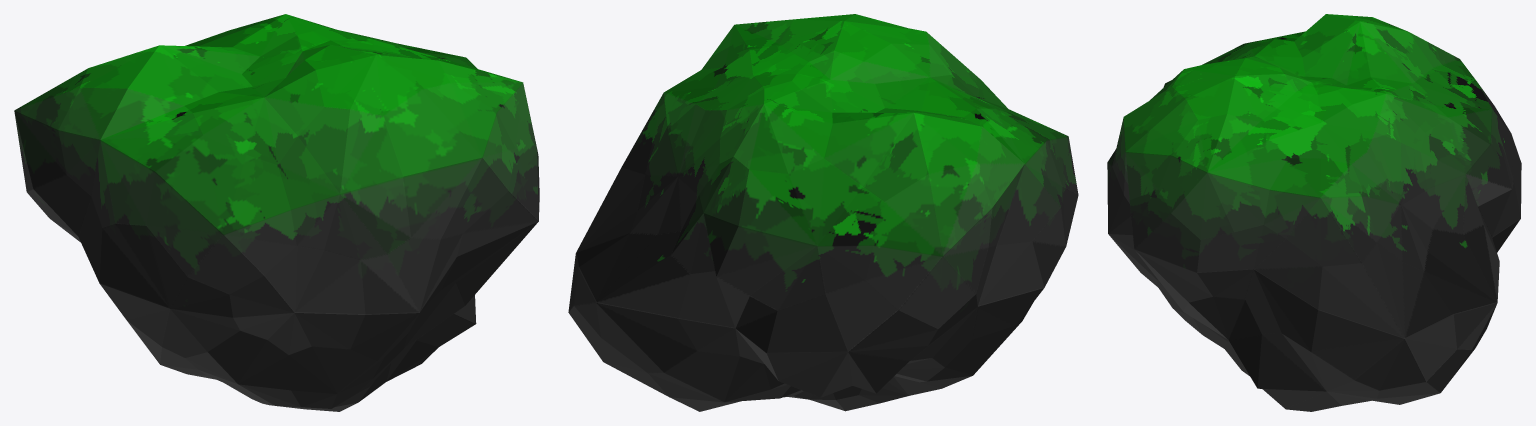
File: GrassyRock5.glb
3 views of the same model, side by side, from view 1: azimuth 30°, elevation 25°; view 2: azimuth 150°, elevation 25°; view 3: azimuth 270°, elevation 25° (orthographic). The views are drawn at different scales.
Parts seen in each view (by area): view 1: GrassyRock5; view 2: GrassyRock5; view 3: GrassyRock5.
Part boxes in pixels (left/top/right/bottom): GrassyRock5: left=14, top=14, right=539, bottom=411; GrassyRock5: left=568, top=14, right=1078, bottom=411; GrassyRock5: left=1107, top=14, right=1521, bottom=411.
Size of the model in its own units: 4.34 by 3.59 by 4.22.
1 material, 1 textured.
